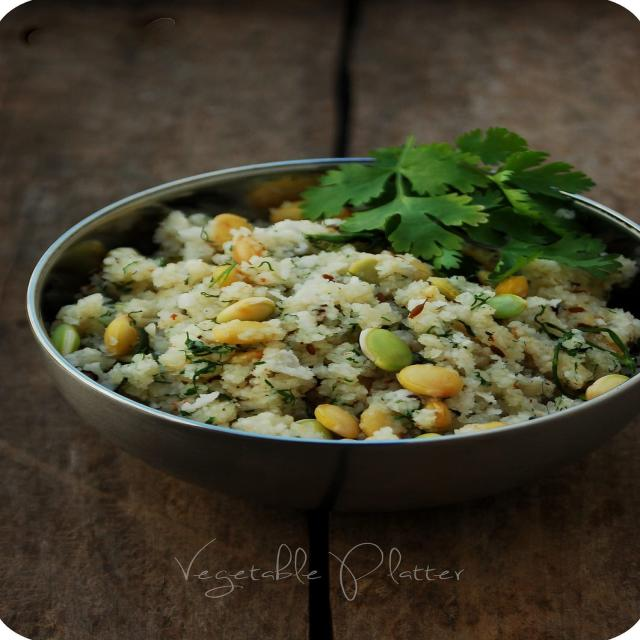upma: (36, 178, 640, 462)
